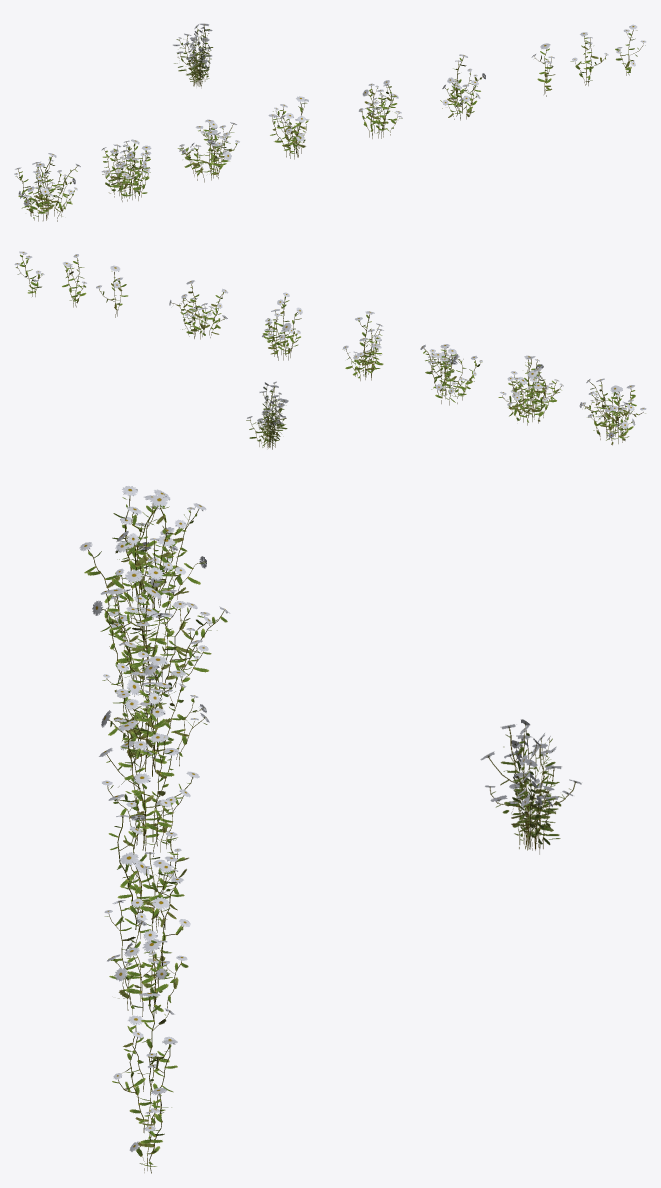
The model's file is daisy_models_pack_realistic_optimized.glb.
The picture shows the model from 3 angles, top to bottom: view 1: azimuth 30°, elevation 25°; view 2: azimuth 150°, elevation 25°; view 3: azimuth 270°, elevation 25°; orthographic projection. The views are drawn at different scales.
Parts seen in each view (by area): view 1: Daisy_patch_big_2_LOD0, Daisy_patch_big_1_LOD0, Daisy_patch_big_3_LOD0, Daisy_patch_small_1_LOD2_Daisy patch small 1_Billboard_Mat.0, Daisy_patch_small_1_LOD0, Daisy_patch_small_2_LOD0, Daisy_patch_small_3_LOD0, Daisy_2_LOD0, Daisy_3_LOD0, Daisy_1_LOD0; view 2: Daisy_patch_big_2_LOD0, Daisy_patch_big_1_LOD0, Daisy_patch_big_3_LOD0, Daisy_patch_small_1_LOD2_Daisy patch small 1_Billboard_Mat.0, Daisy_patch_small_2_LOD0, Daisy_patch_small_3_LOD0, Daisy_patch_small_1_LOD0, Daisy_2_LOD0, Daisy_1_LOD0, Daisy_3_LOD0; view 3: Daisy_patch_big_2_LOD0, Daisy_patch_big_1_LOD0, Daisy_patch_small_1_LOD2_Daisy patch small 1_Billboard_Mat.0, Daisy_patch_big_3_LOD0, Daisy_patch_small_1_LOD0, Daisy_patch_small_3_LOD0, Daisy_patch_small_2_LOD0, Daisy_2_LOD0.
Boxes of the visible parts, x1=… form: Daisy_patch_big_2_LOD0: x1=101, y1=139, x2=151, y2=201; Daisy_patch_big_1_LOD0: x1=14, y1=153, x2=80, y2=221; Daisy_patch_big_3_LOD0: x1=177, y1=119, x2=239, y2=182; Daisy_patch_small_1_LOD2_Daisy patch small 1_Billboard_Mat.0: x1=173, y1=23, x2=213, y2=86; Daisy_patch_small_1_LOD0: x1=268, y1=96, x2=308, y2=159; Daisy_patch_small_2_LOD0: x1=358, y1=80, x2=402, y2=138; Daisy_patch_small_3_LOD0: x1=440, y1=54, x2=485, y2=120; Daisy_2_LOD0: x1=570, y1=32, x2=608, y2=85; Daisy_3_LOD0: x1=615, y1=24, x2=646, y2=75; Daisy_1_LOD0: x1=531, y1=43, x2=555, y2=96; Daisy_patch_big_2_LOD0: x1=498, y1=355, x2=563, y2=425; Daisy_patch_big_1_LOD0: x1=579, y1=378, x2=646, y2=445; Daisy_patch_big_3_LOD0: x1=420, y1=344, x2=482, y2=405; Daisy_patch_small_1_LOD2_Daisy patch small 1_Billboard_Mat.0: x1=246, y1=381, x2=288, y2=449; Daisy_patch_small_2_LOD0: x1=262, y1=292, x2=302, y2=360; Daisy_patch_small_3_LOD0: x1=169, y1=280, x2=228, y2=339; Daisy_patch_small_1_LOD0: x1=342, y1=311, x2=383, y2=380; Daisy_2_LOD0: x1=62, y1=254, x2=86, y2=307; Daisy_1_LOD0: x1=96, y1=265, x2=128, y2=317; Daisy_3_LOD0: x1=14, y1=251, x2=44, y2=296; Daisy_patch_big_2_LOD0: x1=92, y1=567, x2=230, y2=696; Daisy_patch_big_1_LOD0: x1=79, y1=486, x2=206, y2=619; Daisy_patch_small_1_LOD2_Daisy patch small 1_Billboard_Mat.0: x1=480, y1=719, x2=581, y2=854; Daisy_patch_big_3_LOD0: x1=101, y1=656, x2=209, y2=776; Daisy_patch_small_1_LOD0: x1=99, y1=722, x2=199, y2=856; Daisy_patch_small_3_LOD0: x1=104, y1=897, x2=190, y2=1018; Daisy_patch_small_2_LOD0: x1=108, y1=814, x2=188, y2=938; Daisy_2_LOD0: x1=112, y1=1031, x2=177, y2=1132.
Size of what is drawn, in the model's own units: 7.55 by 0.7226 by 2.63.
2 materials, 2 textured.
